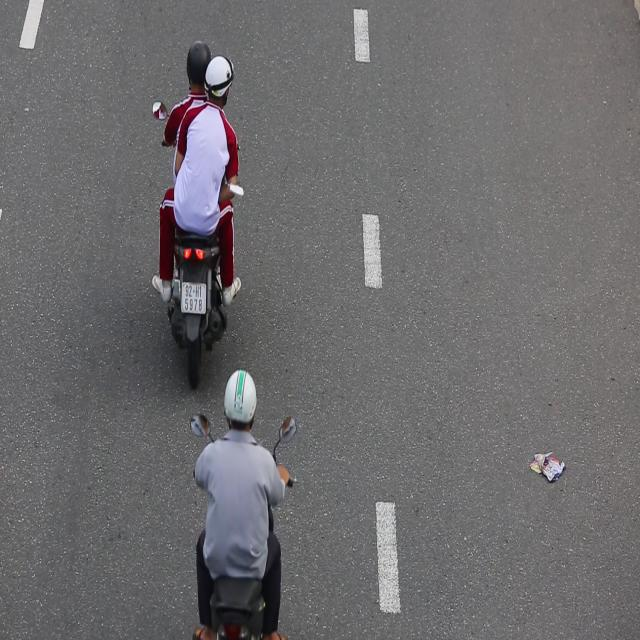motorbike: (148, 35, 248, 388)
